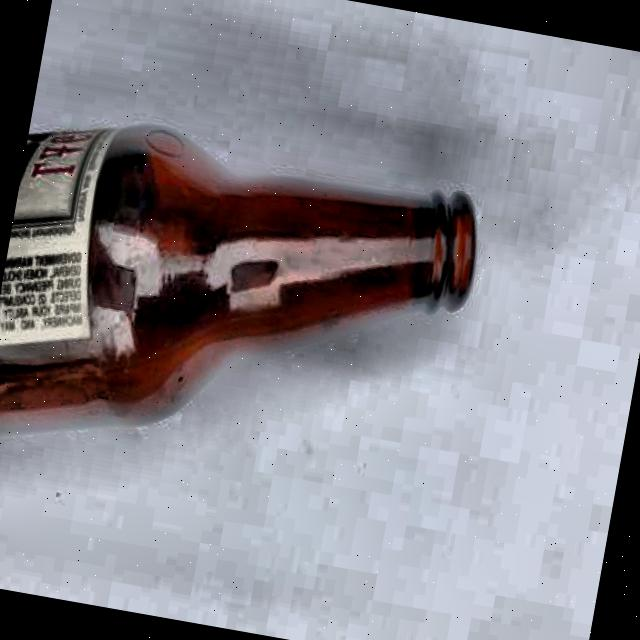glass: (0, 99, 489, 518)
